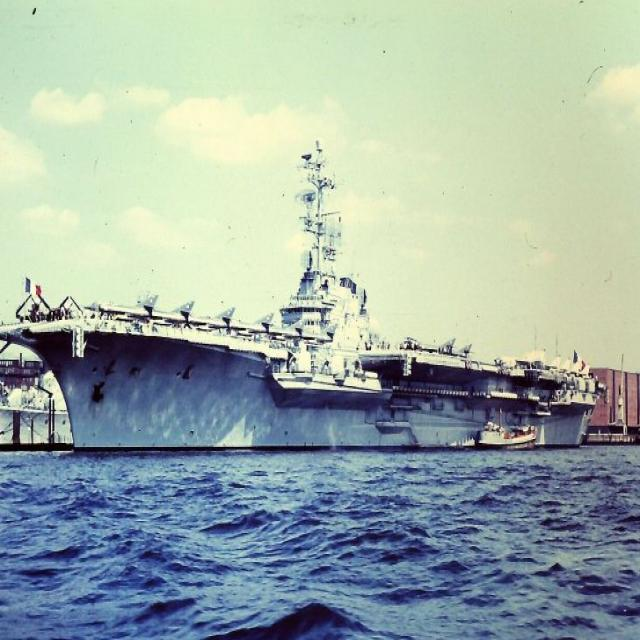Portanaves: (1, 136, 605, 458)
